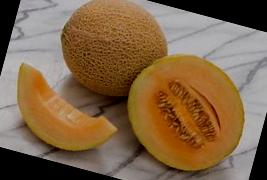Melon Ripe: (111, 40, 258, 180), (48, 0, 176, 107), (1, 60, 128, 162)
